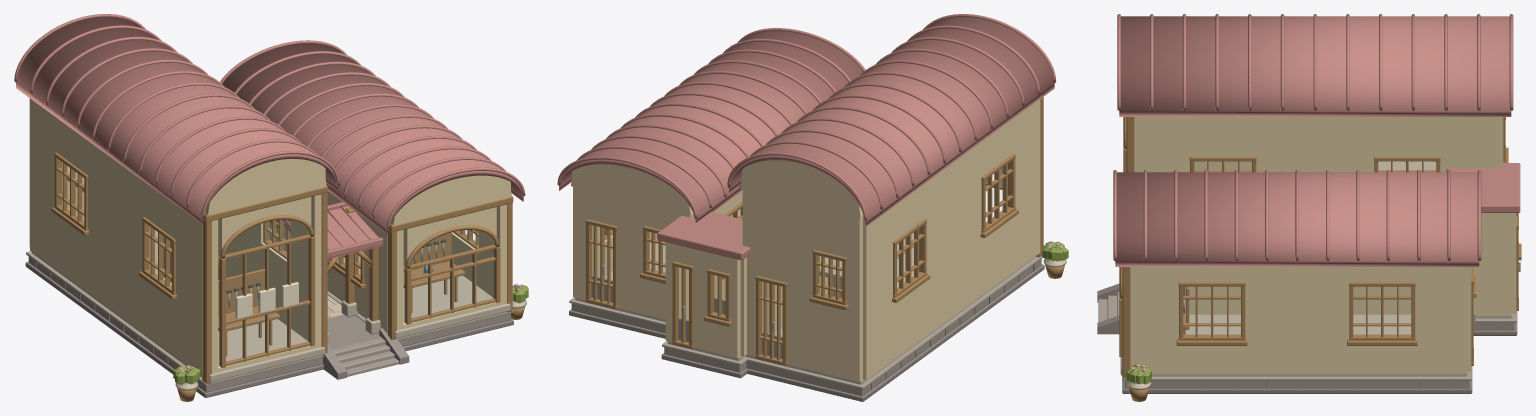
3 renders of one model, left to right at view 1: azimuth 30°, elevation 25°; view 2: azimuth 150°, elevation 25°; view 3: azimuth 270°, elevation 25°, orthographic. The views are drawn at different scales.
Parts seen in each view (by area): view 1: SM_21_01_建筑墙体, SM_21_02_曲面屋顶, SM_21_04_门窗楼梯, SM_21_03_木构回廊, SM_21_06_景观设施, SM_21_05_景观植物; view 2: SM_21_01_建筑墙体, SM_21_02_曲面屋顶, SM_21_04_门窗楼梯, SM_21_05_景观植物, SM_21_03_木构回廊; view 3: SM_21_02_曲面屋顶, SM_21_01_建筑墙体, SM_21_04_门窗楼梯, SM_21_03_木构回廊, SM_21_05_景观植物.
Boxes of the visible parts, <box> form: SM_21_01_建筑墙体: <box>25,98,513,397</box>; SM_21_02_曲面屋顶: <box>14,14,525,259</box>; SM_21_04_门窗楼梯: <box>51,152,500,379</box>; SM_21_03_木构回廊: <box>202,185,513,383</box>; SM_21_06_景观设施: <box>218,232,465,356</box>; SM_21_05_景观植物: <box>173,284,528,401</box>; SM_21_01_建筑墙体: <box>569,99,1044,401</box>; SM_21_02_曲面屋顶: <box>557,14,1056,260</box>; SM_21_04_门窗楼梯: <box>585,154,1018,365</box>; SM_21_05_景观植物: <box>1042,241,1068,278</box>; SM_21_03_木构回廊: <box>768,97,1043,333</box>; SM_21_02_曲面屋顶: <box>1113,14,1520,266</box>; SM_21_01_建筑墙体: <box>1120,117,1517,393</box>; SM_21_04_门窗楼梯: <box>1097,117,1521,365</box>; SM_21_03_木构回廊: <box>1122,117,1134,378</box>; SM_21_05_景观植物: <box>1126,363,1151,401</box>.
Bounding box in the file's own units: 10.72 × 6.71 × 10.61.
